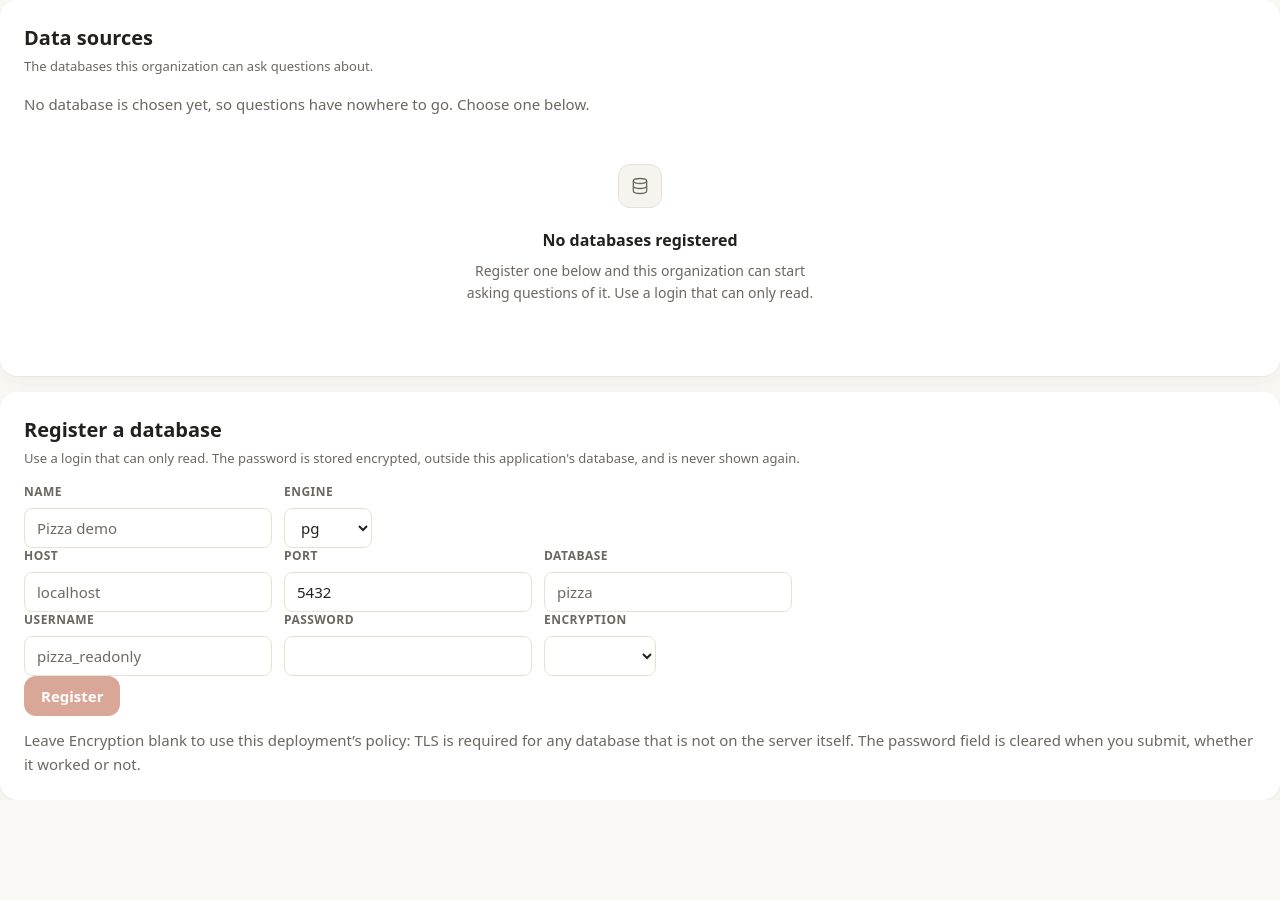
Scenario: <DataSources /> › shows the API's own words when a TLS downgrade is refused
Expected: the text "No databases registered" is shown, top-left (542, 229), bottom-right (738, 251)
Type "Cloud" into the field labelled "Name". click: (148, 528)
box: top-left (24, 508), bottom-right (272, 548)
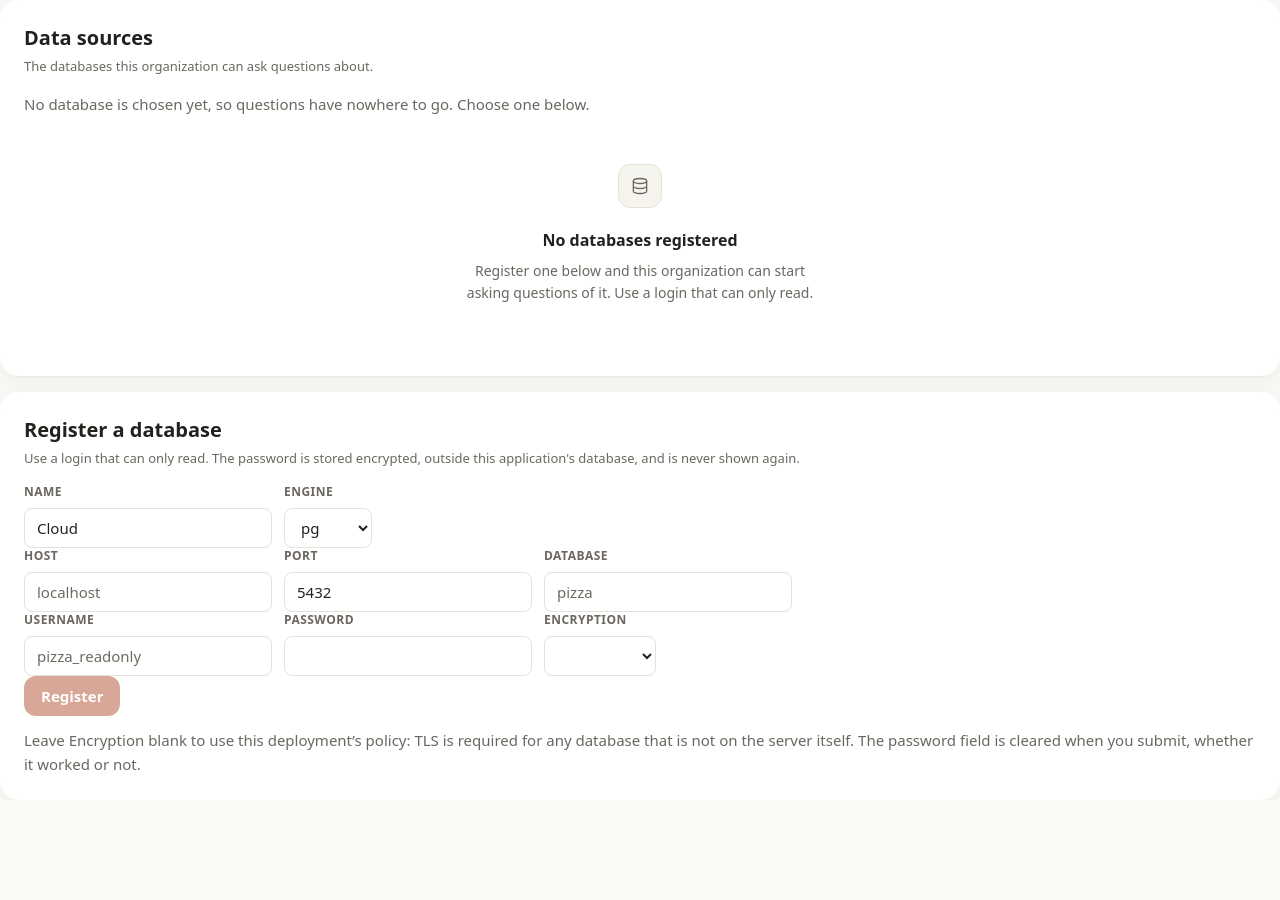
Type "db.example.com" into the field labelled "Host". click: (148, 592)
box: top-left (24, 572), bottom-right (272, 612)
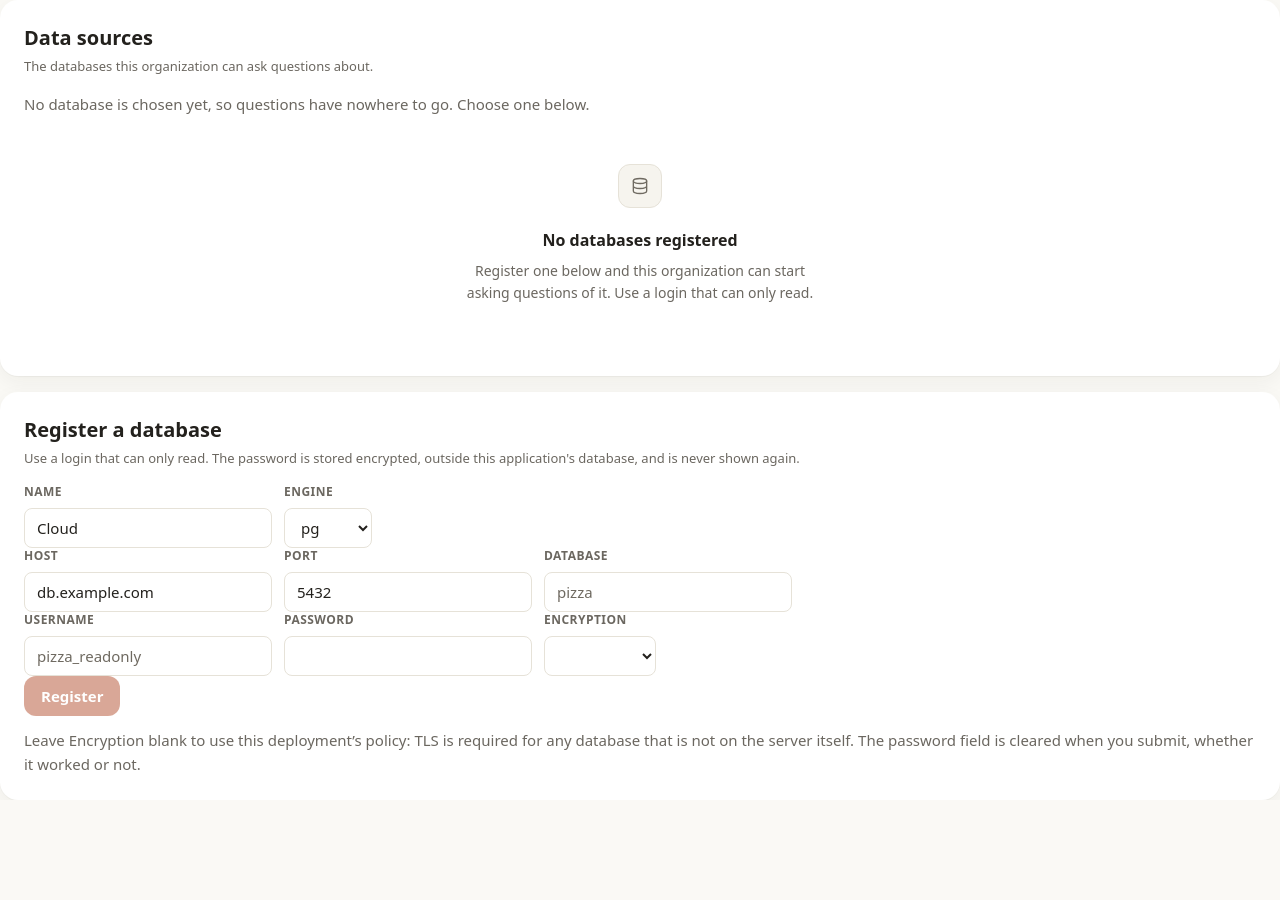
Type "sales" into the field labelled "Database". click: (668, 592)
box: top-left (544, 572), bottom-right (792, 612)
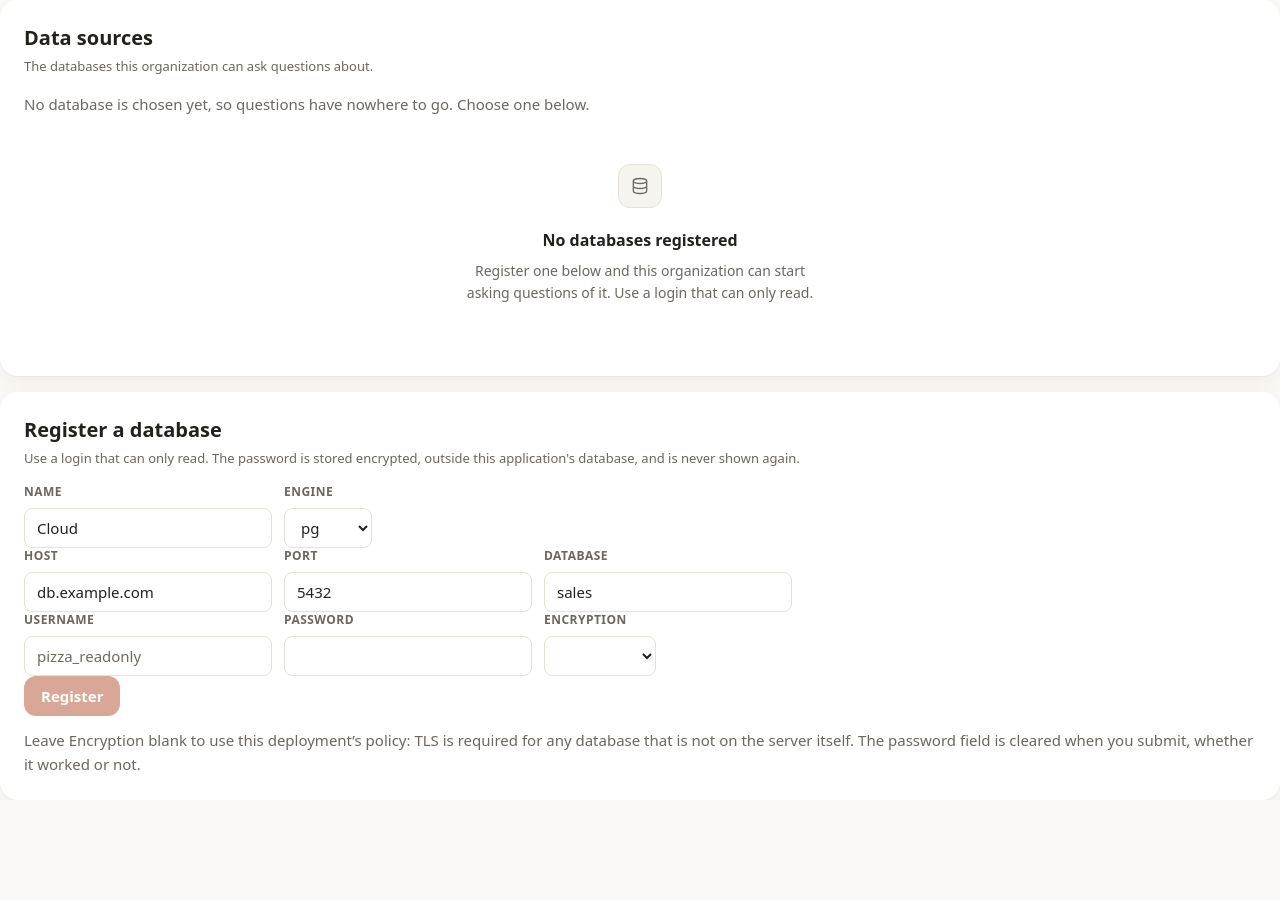
Type "reader" into the field labelled "Username". click: (148, 656)
box: top-left (24, 636), bottom-right (272, 676)
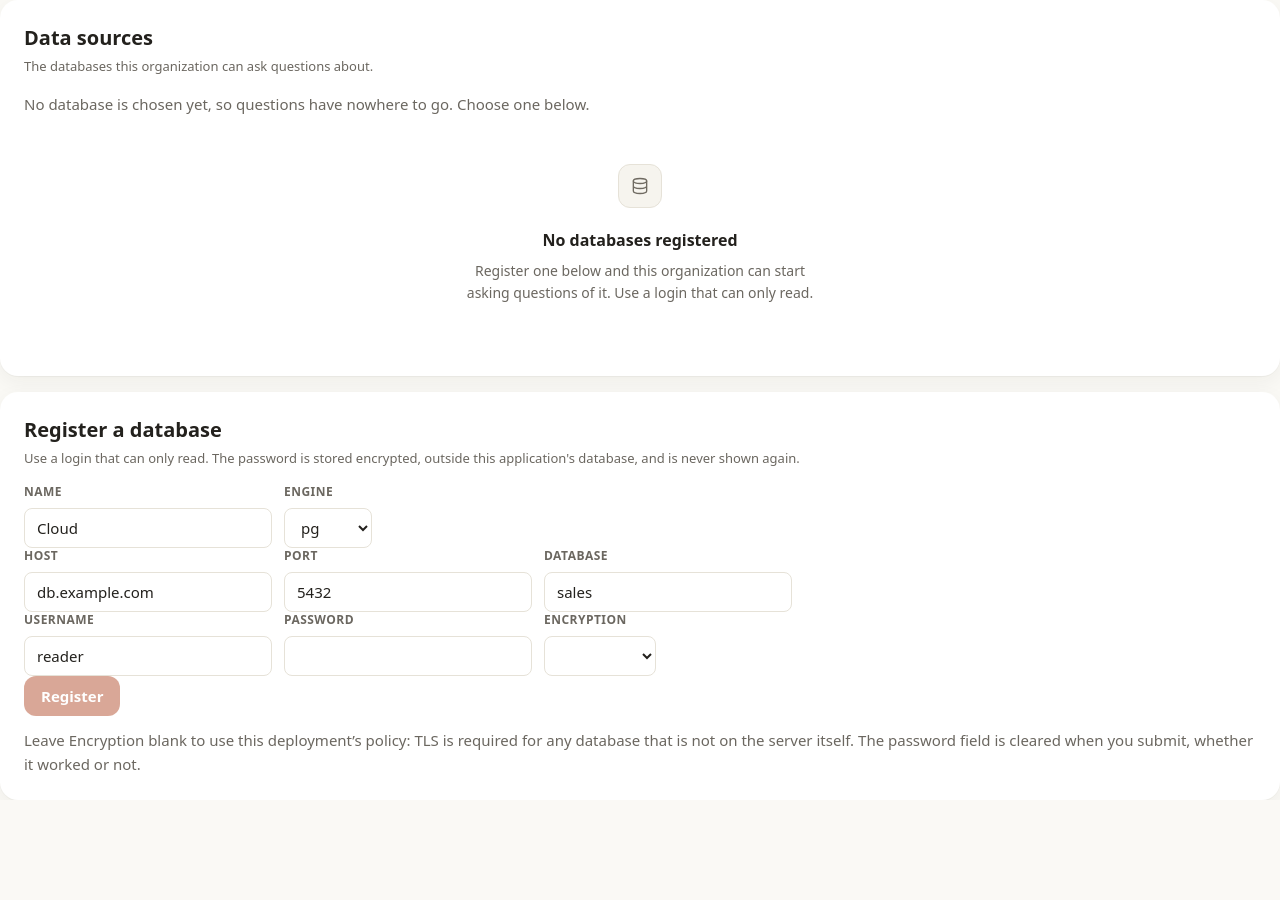
Type "not-a-real-password-9f3a" into the password field labelled "Password". click: (408, 656)
box: top-left (284, 636), bottom-right (532, 676)
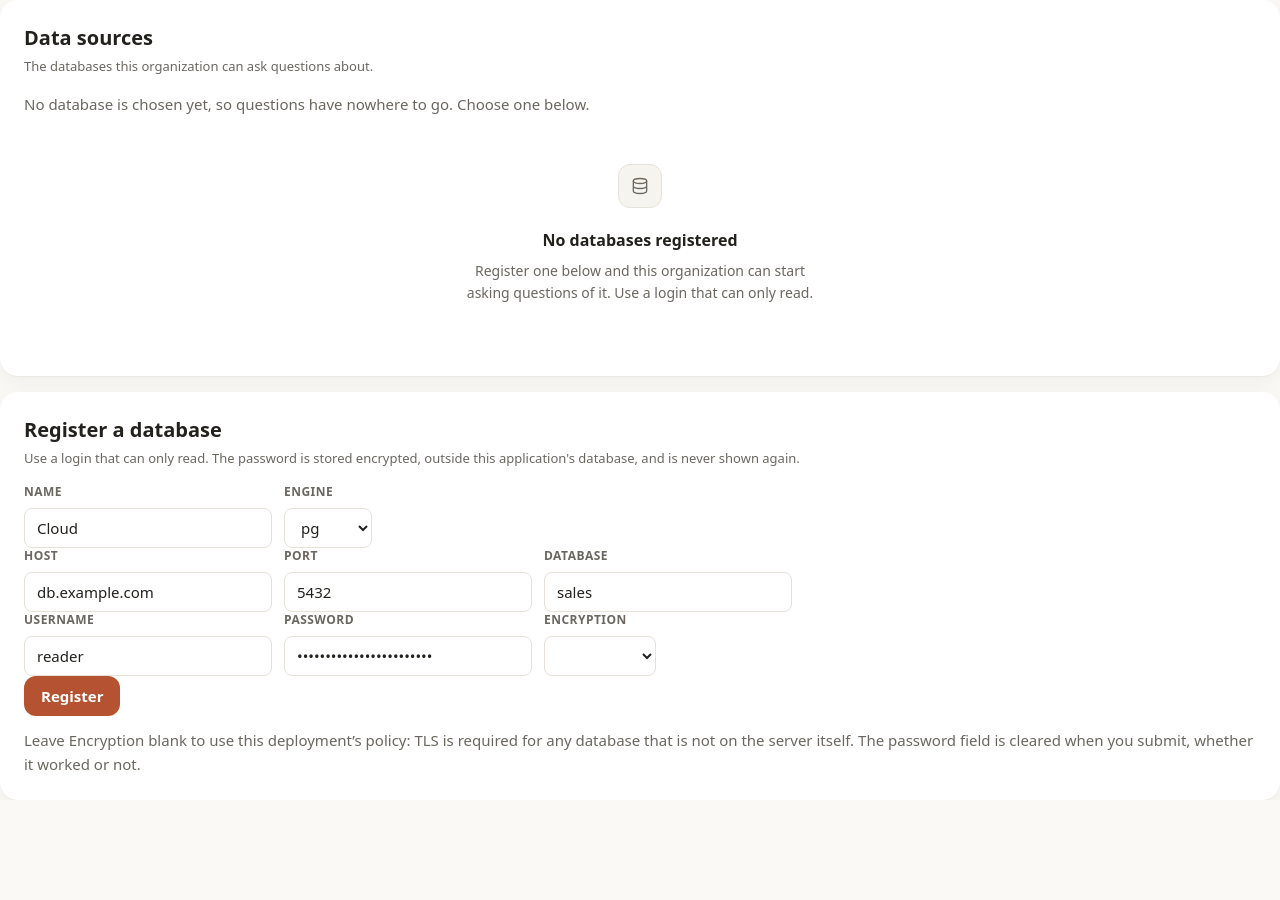
Click the button "Register". click: (72, 696)
box: top-left (24, 676), bottom-right (120, 716)
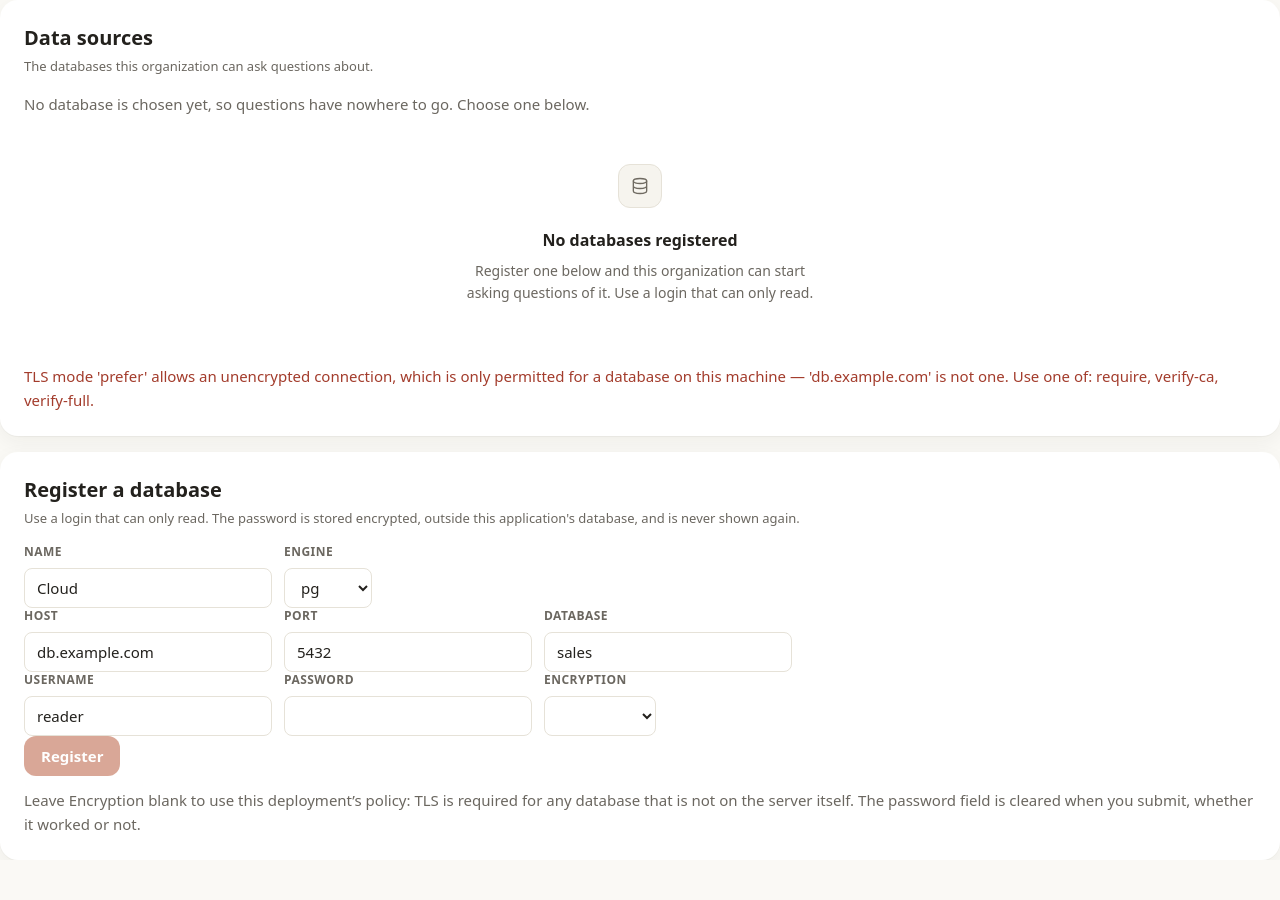
Now the text "Use one of: require, verify-ca, verify-full" is shown, box top-left (24, 366), bottom-right (1218, 410)
